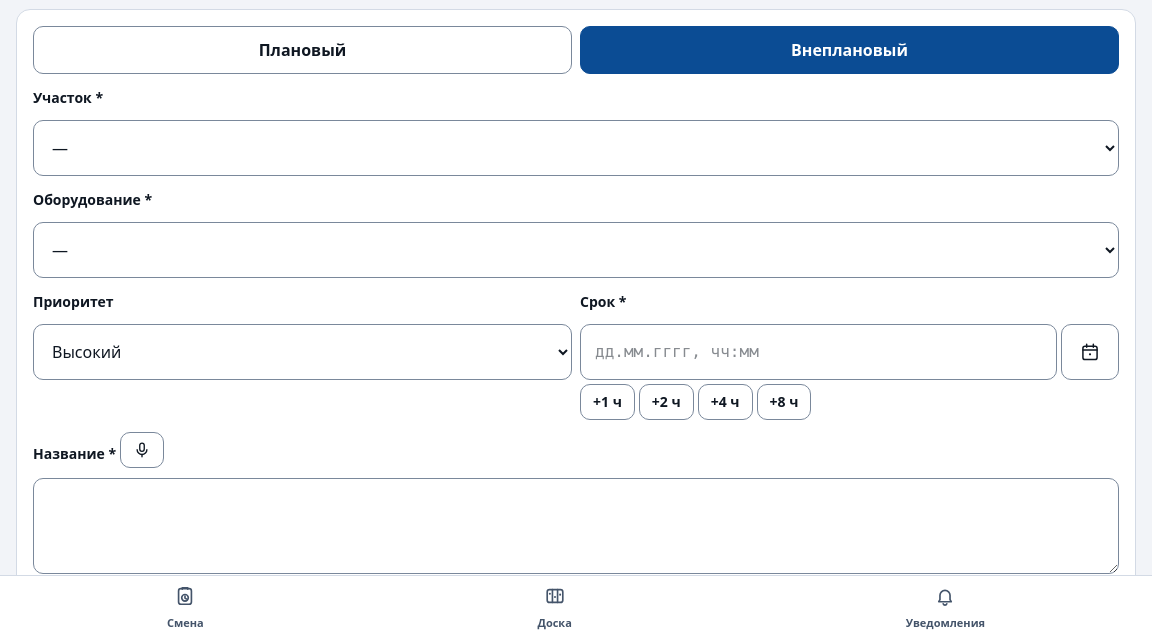
Test: MasterNew evidence and recommendations › reads the AI candidates envelope, displays explanations, and applies only on explicit click
Step 1. Select "Цех 1" in the dropdown labelled "Участок *" → (576, 148), box [33,120,1119,176]
Step 2. Select "Насос 1" in the dropdown labelled "Оборудование *" → (576, 250), box [33,222,1119,278]
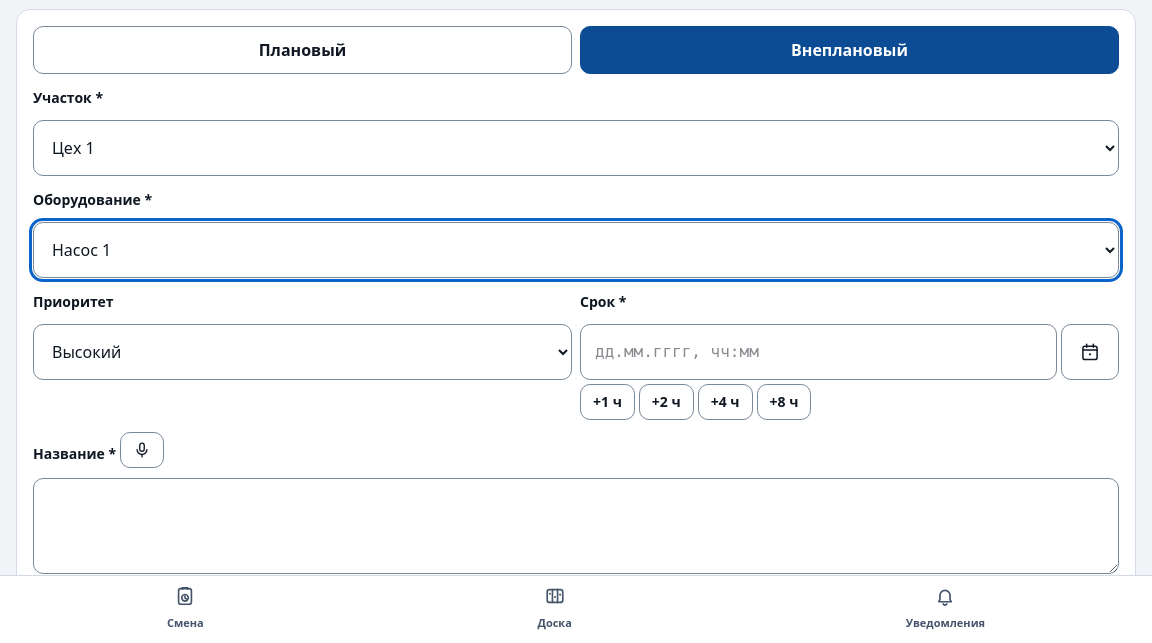
Step 3. Type "30.10.2099, 09:05" into the field with placeholder "дд.мм.гггг, чч:мм" → (818, 352), box [580,324,1057,380]
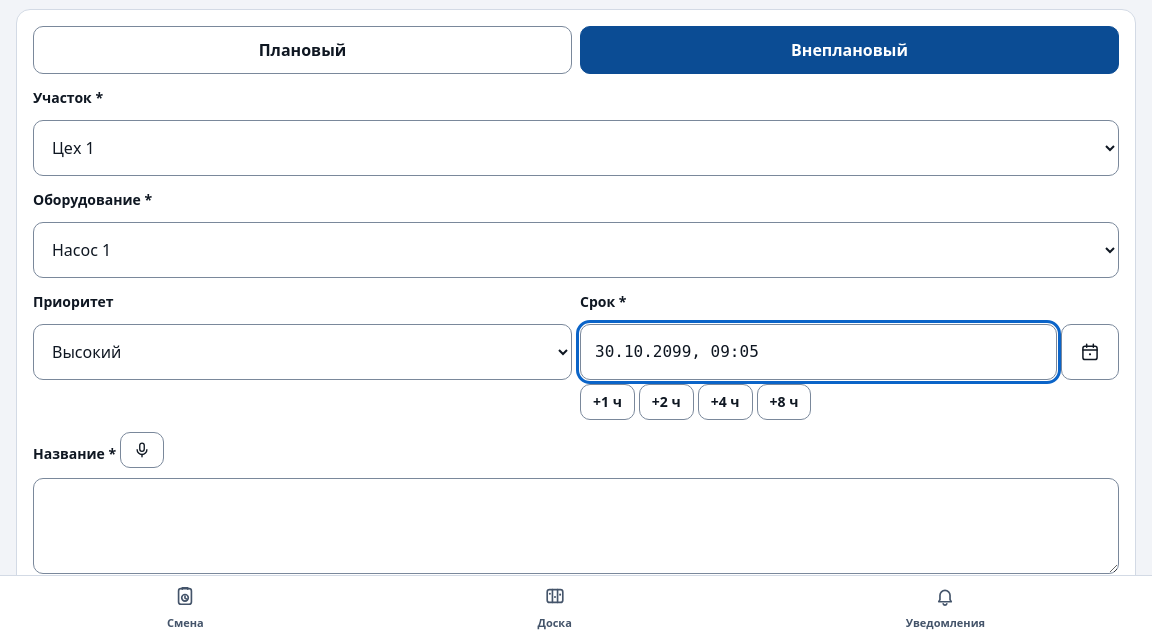
Step 4. Type "  Течь масла  " into the text box labelled "Название *" → (576, 526), box [33,478,1119,574]
(page scrolled)
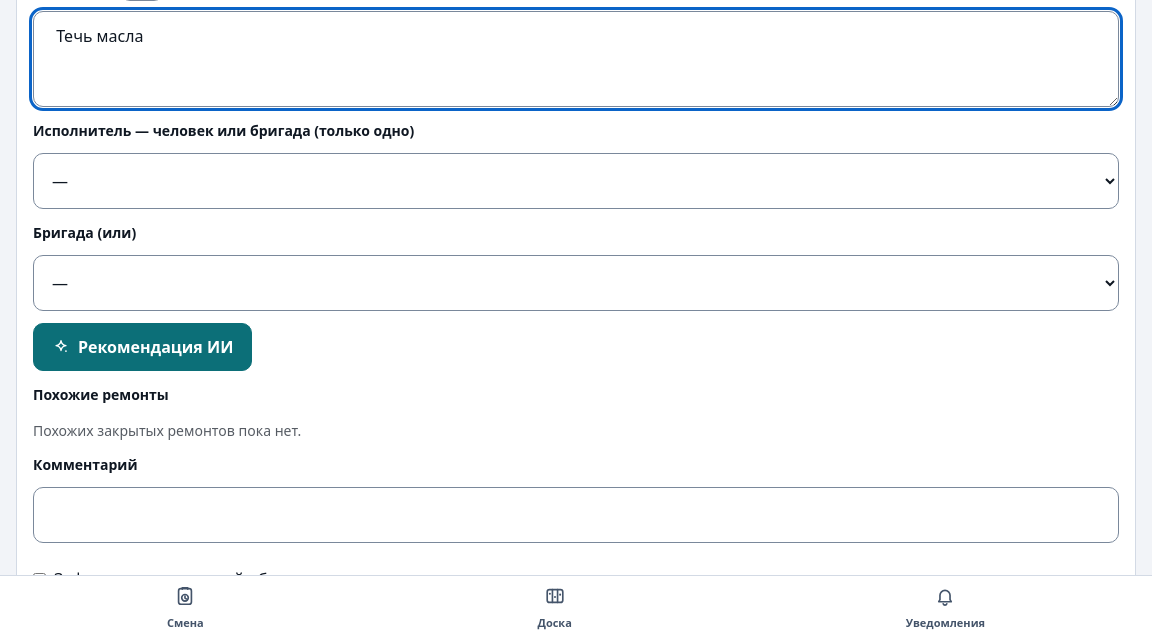
Step 5. Select "Ремонтная бригада" in the dropdown labelled "Бригада (или)" → (576, 283), box [33,255,1119,311]
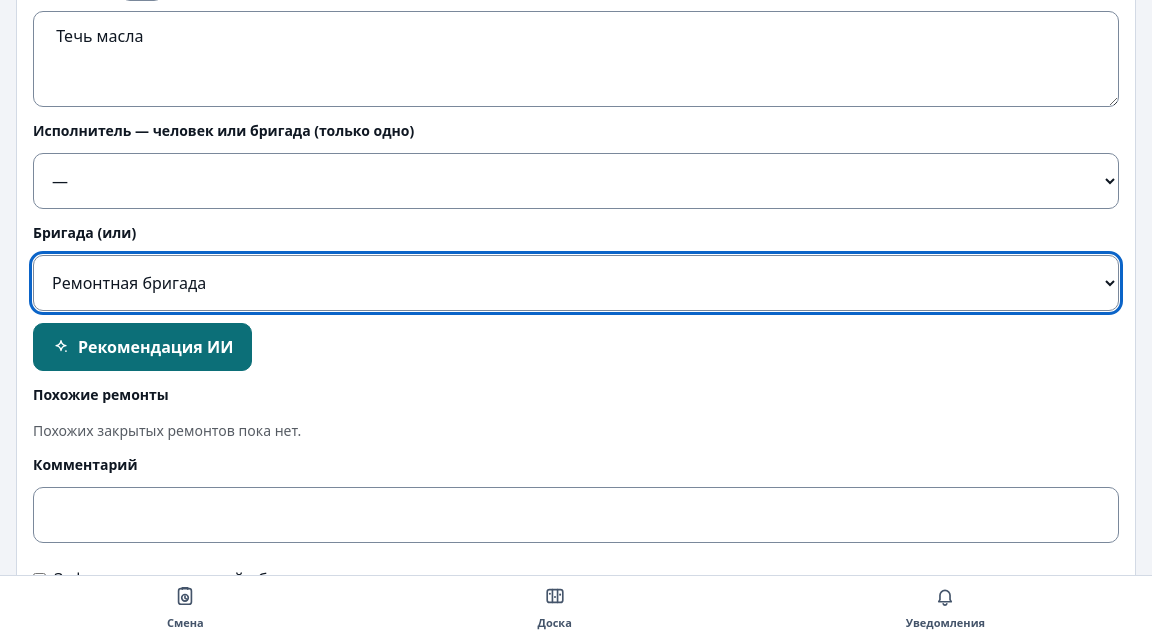
Step 6. Click the button "Рекомендация ИИ" → (143, 347), box [33,323,252,371]
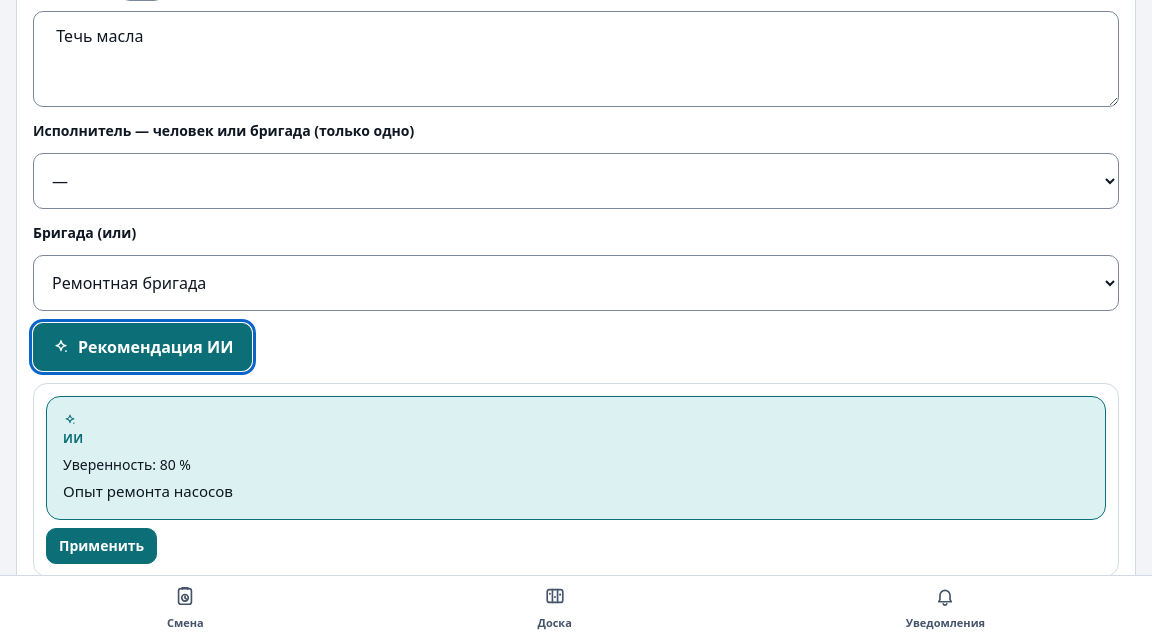
Expected: the dropdown labelled "Исполнитель — человек или бригада (только одно)" shows "—", [33,153,1119,209]
Expected: the text "Опыт ремонта насосов" is shown, [63,481,233,501]
Expected: the text "Уверенность: 80 %" is shown, [63,455,191,474]
Step 7. Click the button "Применить" → (102, 546), box [46,528,157,564]
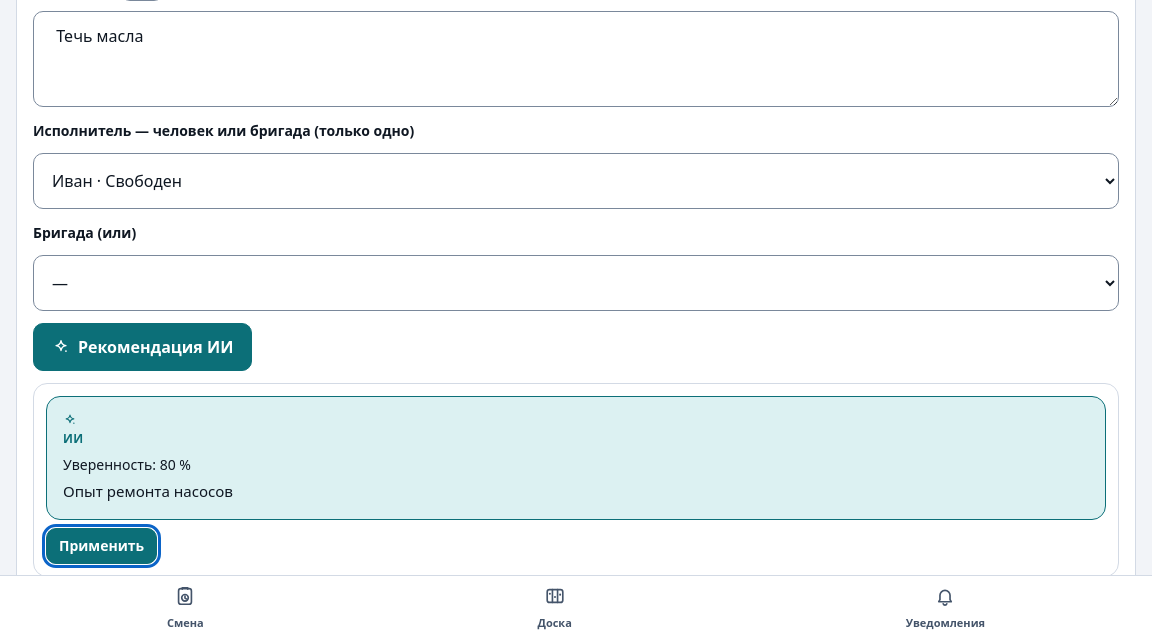
Expected: the dropdown labelled "Исполнитель — человек или бригада (только одно)" shows "Иван · Свободен", [33,153,1119,209]
